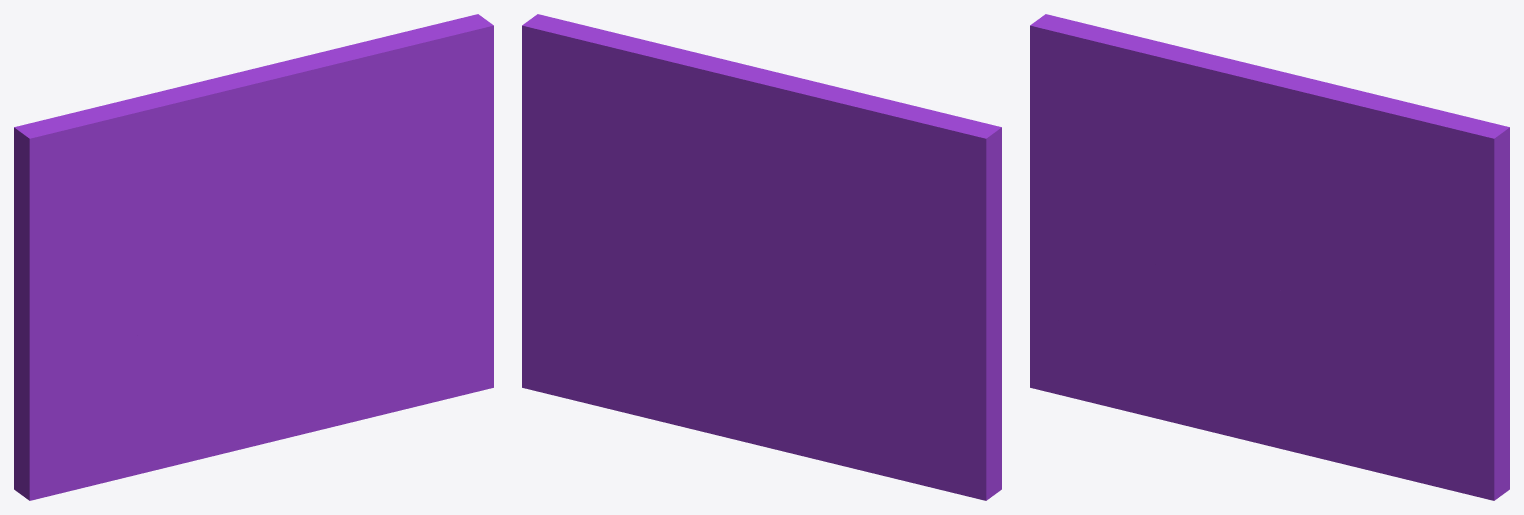
Rendered from Barrier_22_chunks.fbx.
The picture shows the model from 3 angles, left to right: view 1: azimuth 30°, elevation 25°; view 2: azimuth 150°, elevation 25°; view 3: azimuth 330°, elevation 25°; orthographic projection.
Parts seen in each view (by area): view 1: Barrier_22_1, Barrier_22_0, Barrier_22_2, Barrier_22_6, Barrier_22_4, Barrier_22_5, Barrier_22_3; view 2: Barrier_22_1, Barrier_22_2, Barrier_22_6, Barrier_22_4, Barrier_22_0, Barrier_22_5; view 3: Barrier_22_1, Barrier_22_0, Barrier_22_6, Barrier_22_2, Barrier_22_4, Barrier_22_5, Barrier_22_3.
Part boxes in pixels (x1=…): Barrier_22_1: x1=271, y1=14, x2=493, y2=427; Barrier_22_0: x1=23, y1=257, x2=328, y2=500; Barrier_22_2: x1=14, y1=200, x2=202, y2=495; Barrier_22_6: x1=131, y1=27, x2=452, y2=174; Barrier_22_4: x1=14, y1=99, x2=185, y2=259; Barrier_22_5: x1=166, y1=134, x2=371, y2=265; Barrier_22_3: x1=118, y1=106, x2=220, y2=211; Barrier_22_1: x1=522, y1=14, x2=749, y2=433; Barrier_22_2: x1=748, y1=211, x2=1001, y2=500; Barrier_22_6: x1=575, y1=24, x2=879, y2=186; Barrier_22_4: x1=810, y1=103, x2=1001, y2=236; Barrier_22_0: x1=709, y1=316, x2=1001, y2=493; Barrier_22_5: x1=664, y1=146, x2=831, y2=251; Barrier_22_1: x1=1272, y1=114, x2=1509, y2=500; Barrier_22_0: x1=1030, y1=237, x2=1328, y2=460; Barrier_22_6: x1=1152, y1=42, x2=1456, y2=187; Barrier_22_2: x1=1030, y1=123, x2=1202, y2=335; Barrier_22_4: x1=1030, y1=14, x2=1185, y2=212; Barrier_22_5: x1=1166, y1=155, x2=1372, y2=261; Barrier_22_3: x1=1118, y1=47, x2=1220, y2=174.
Size of the model in its own units: 381 by 284 by 22.39.
